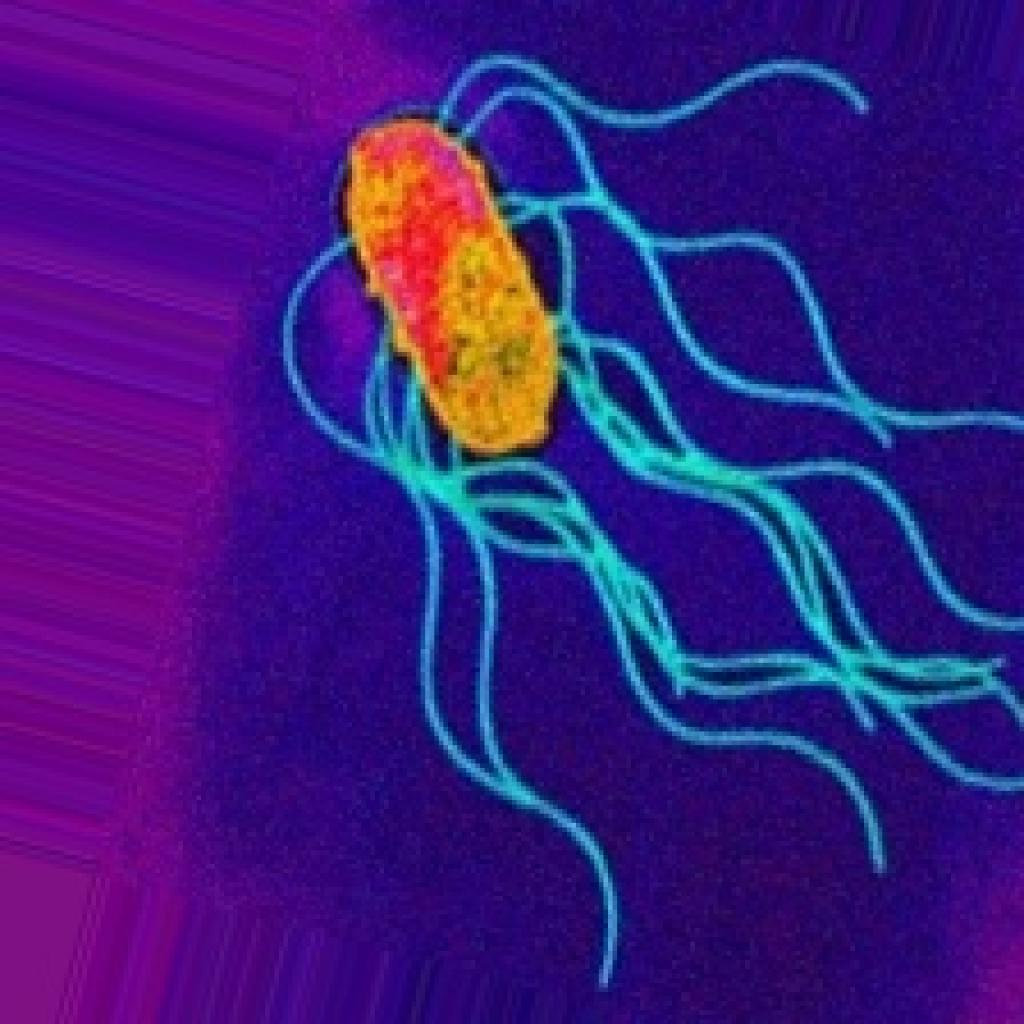Rodbacteria: (274, 46, 1020, 992), (334, 110, 562, 457)
